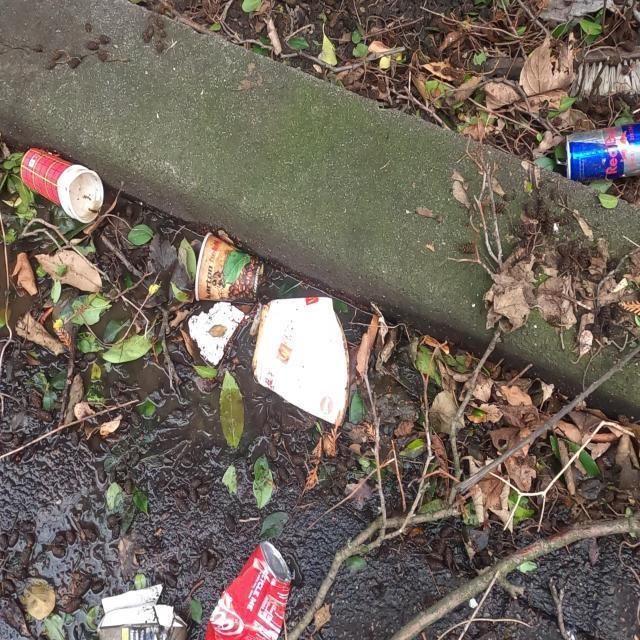Can-Metal: (202, 538, 292, 640), (562, 118, 640, 183)
Cup: (249, 294, 352, 428), (19, 146, 105, 224), (194, 231, 265, 306)
